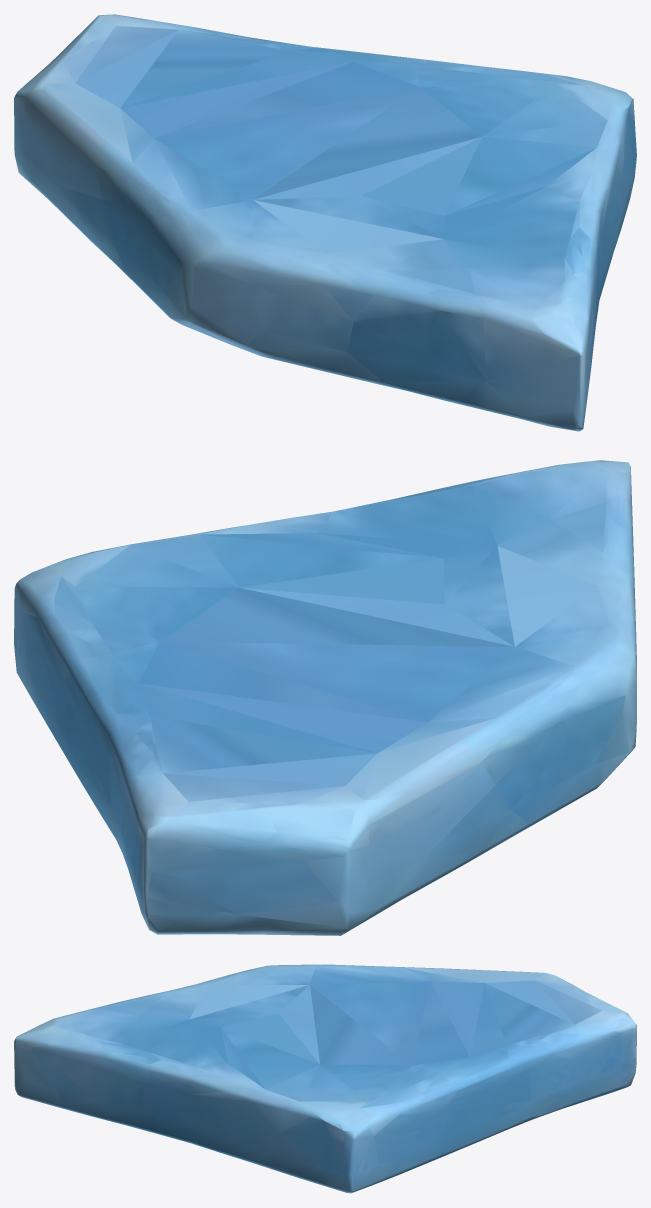
The model's file is placa_hielo_rota_0_700.glb.
3 renders of one model, top to bottom at view 1: azimuth 30°, elevation 25°; view 2: azimuth 150°, elevation 25°; view 3: azimuth 270°, elevation 25°, orthographic. The views are drawn at different scales.
Visible parts, largest first — view 1: placa_hielo_rota_0_malla; view 2: placa_hielo_rota_0_malla; view 3: placa_hielo_rota_0_malla.
Part boxes in pixels (x1,y1,x2,y2): placa_hielo_rota_0_malla: [14, 14, 636, 431]; placa_hielo_rota_0_malla: [14, 460, 636, 935]; placa_hielo_rota_0_malla: [14, 964, 636, 1193].
Size of the model in its own units: 0.1312 by 0.0277 by 0.2071.
Materials: 1 (1 with a texture image).
